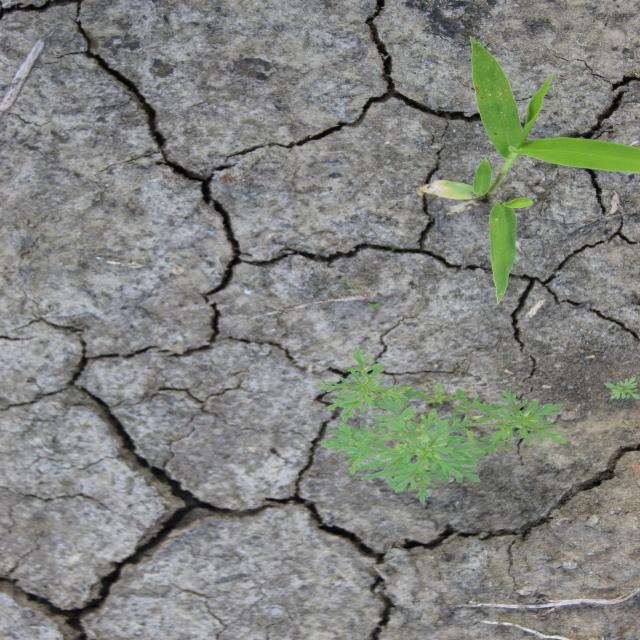Ragweed: (315, 346, 571, 504), (603, 374, 638, 403)
